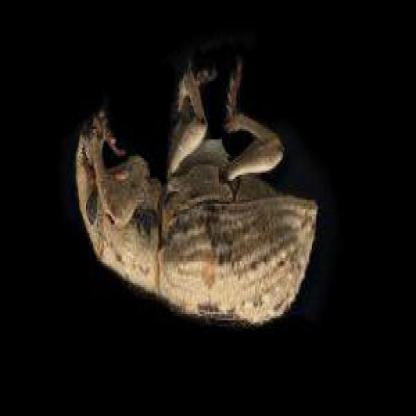rice-bug: (77, 54, 320, 330)
